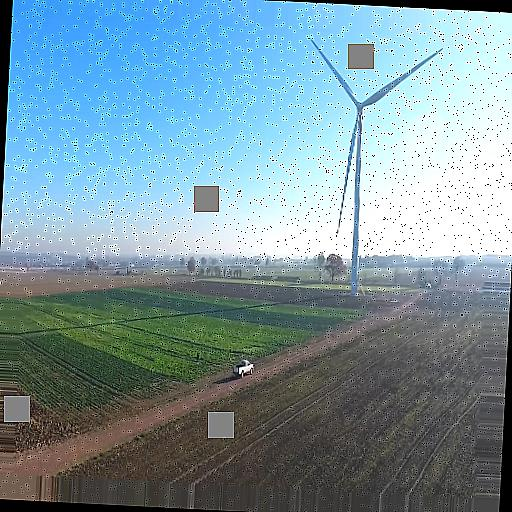wind turbine: (308, 36, 444, 291)
